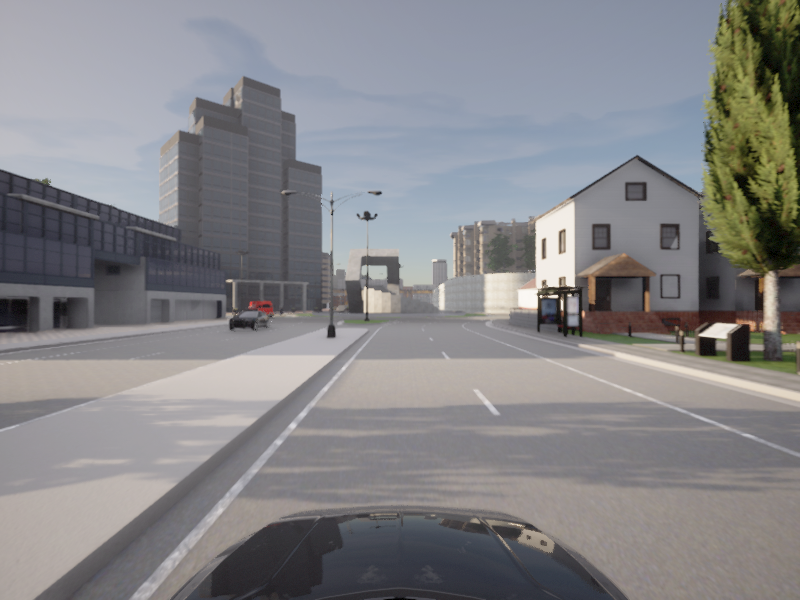vehicle: (224, 308, 272, 332)
